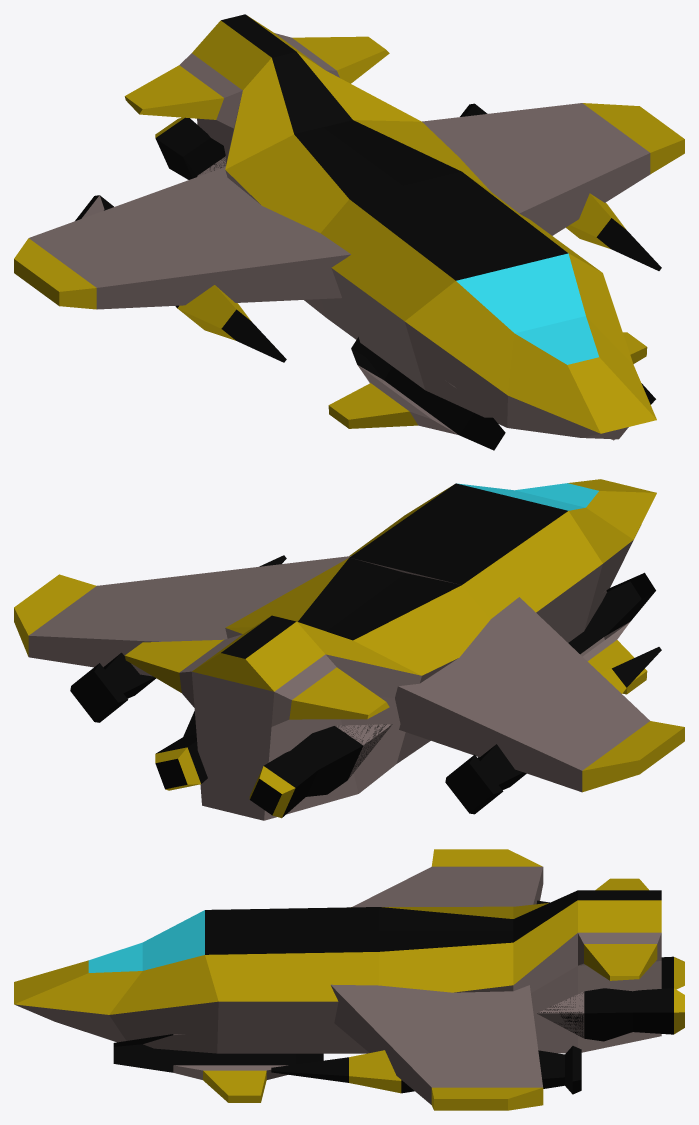
File: spaceship.fbx
3 renders of one model, top to bottom at view 1: azimuth 30°, elevation 25°; view 2: azimuth 150°, elevation 25°; view 3: azimuth 270°, elevation 25°, orthographic. The views are drawn at different scales.
Parts seen in each view (by area): view 1: front, back, rightWing, leftWing; view 2: back, rightWing, front, leftWing; view 3: front, back, leftWing, rightWing.
Part boxes in pixels (bbox=[...]): front: bbox=[320, 172, 656, 450]; back: bbox=[124, 14, 490, 317]; rightWing: bbox=[14, 166, 350, 362]; leftWing: bbox=[422, 103, 684, 270]; back: bbox=[124, 557, 490, 820]; rightWing: bbox=[395, 597, 684, 814]; front: bbox=[349, 479, 656, 694]; leftWing: bbox=[14, 555, 350, 722]; front: bbox=[14, 907, 378, 1102]; back: bbox=[379, 878, 684, 1053]; leftWing: bbox=[271, 984, 581, 1110]; rightWing: bbox=[351, 849, 549, 907].
Bounding box in the file's own units: 313 × 86.77 × 355.
